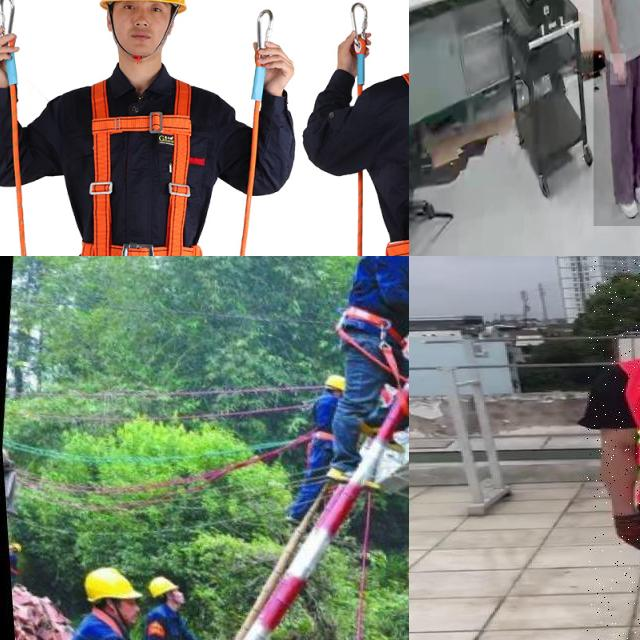Harness: (70, 76, 215, 256), (336, 306, 409, 388)
hand_noglove: (610, 54, 626, 86)
person: (587, 260, 640, 640), (593, 0, 640, 226)
shoes: (612, 183, 640, 221), (631, 165, 640, 204)
